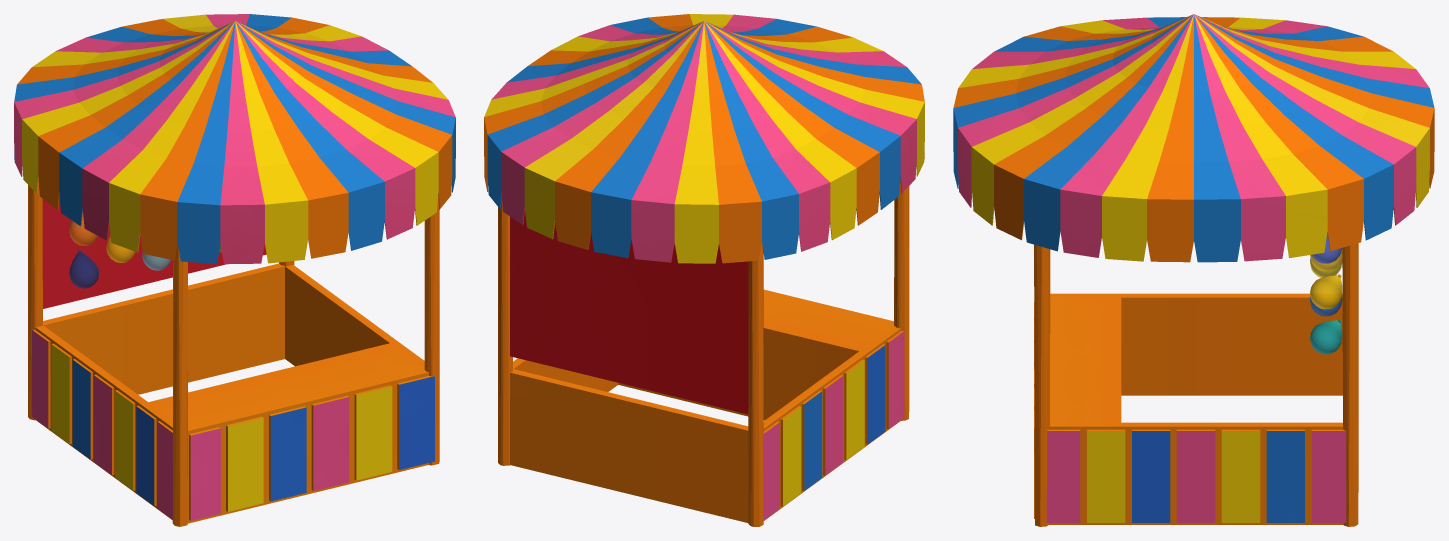
Rendered from dart_booth.fbx.
The picture shows the model from 3 angles, left to right: view 1: azimuth 30°, elevation 25°; view 2: azimuth 150°, elevation 25°; view 3: azimuth 270°, elevation 25°; orthographic projection. The views are drawn at different scales.
Visible parts, largest first — view 1: tent, booth, back wall, pole2, pole1, pole4, balloon.004; view 2: tent, booth, back wall, pole4, pole3, pole2; view 3: tent, booth, pole3, pole1, balloon.015, balloon.017, balloon.014, balloon.016.
Part boxes in pixels (x1,y1,x2,y2): tent: [14, 14, 455, 264]; booth: [31, 263, 434, 523]; back wall: [42, 195, 266, 308]; pole2: [172, 242, 187, 526]; pole1: [424, 197, 439, 465]; pole4: [28, 180, 42, 420]; balloon.004: [69, 250, 99, 288]; tent: [484, 14, 924, 263]; booth: [510, 289, 904, 522]; back wall: [510, 210, 748, 414]; pole4: [748, 241, 763, 526]; pole3: [498, 197, 512, 465]; pole2: [894, 179, 909, 420]; tent: [953, 14, 1434, 262]; booth: [1034, 293, 1346, 524]; pole3: [1342, 243, 1358, 526]; pole1: [1034, 244, 1050, 526]; balloon.015: [1310, 274, 1342, 309]; balloon.017: [1310, 319, 1342, 354]; balloon.014: [1310, 274, 1342, 307]; balloon.016: [1310, 319, 1342, 352].
Bounding box in the file's own units: 5.35 × 6.07 × 5.95.
